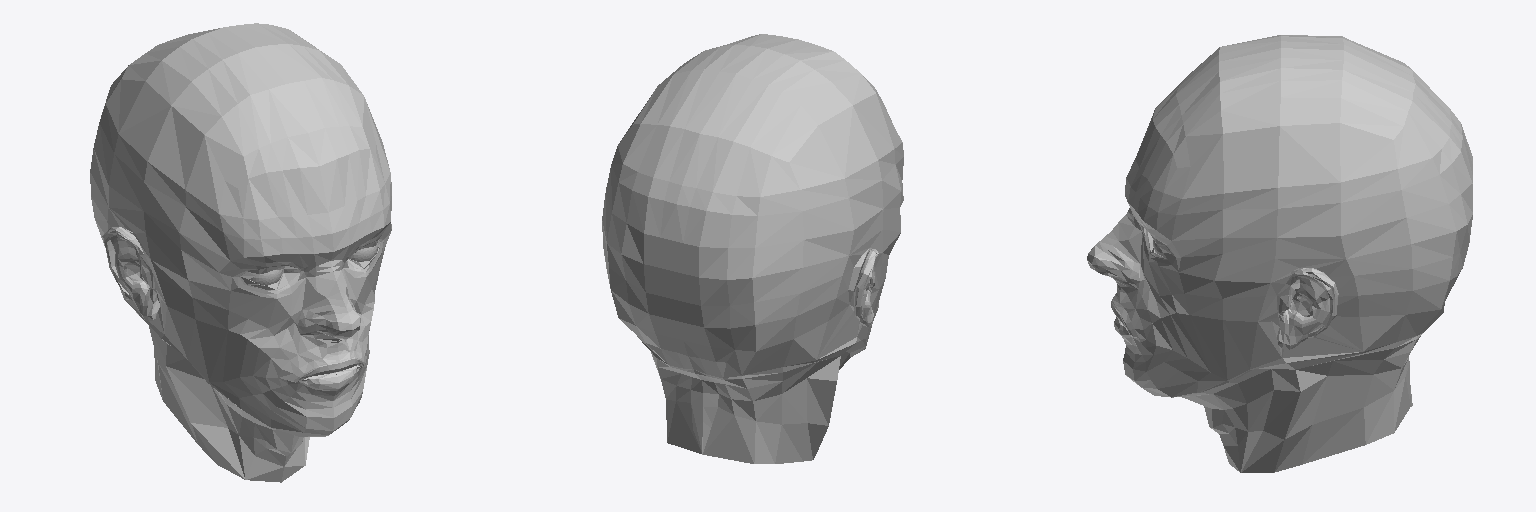
The model's file is Head.obj.
3 renders of one model, left to right at view 1: azimuth 30°, elevation 25°; view 2: azimuth 150°, elevation 25°; view 3: azimuth 270°, elevation 25°, orthographic.
Parts seen in each view (by area): view 1: pasted__pCube4; view 2: pasted__pCube4; view 3: pasted__pCube4.
Boxes of the visible parts, x1,y1,x2,y2 form: pasted__pCube4: [90, 23, 391, 482]; pasted__pCube4: [602, 34, 903, 463]; pasted__pCube4: [1087, 35, 1472, 472].
Size of the model in its own units: 8.69 by 13.51 by 11.38.